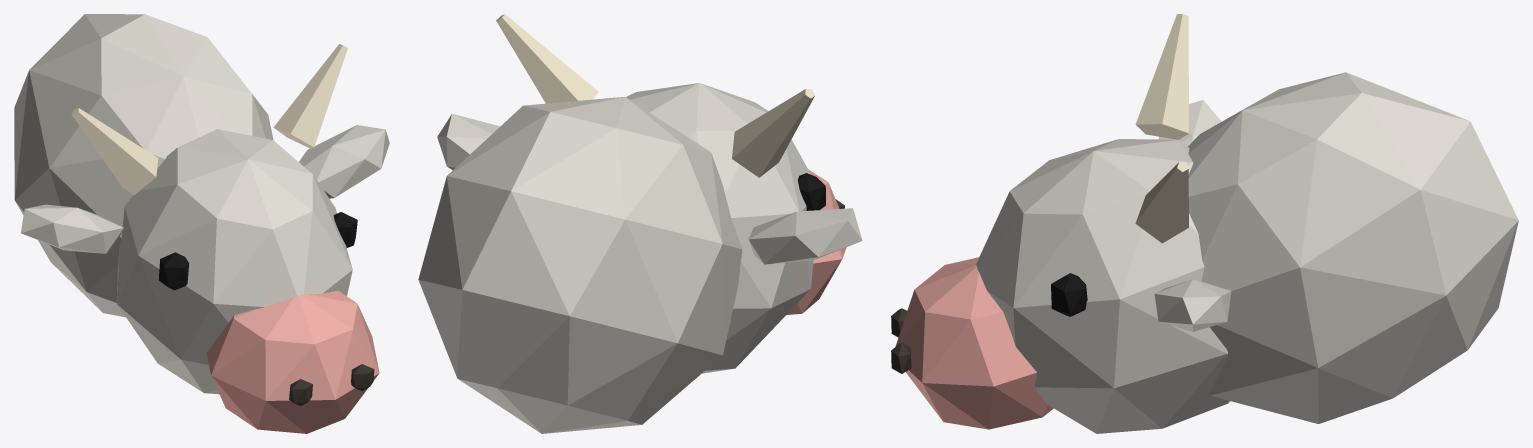
The model's file is cow_1_head.glb.
The picture shows the model from 3 angles, left to right: view 1: azimuth 30°, elevation 25°; view 2: azimuth 150°, elevation 25°; view 3: azimuth 270°, elevation 25°; orthographic projection. The views are drawn at different scales.
Visible parts, largest first — view 1: cow_1_head; view 2: cow_1_head; view 3: cow_1_head.
Boxes of the visible parts, x1,y1,x2,y2 form: cow_1_head: [14, 14, 389, 433]; cow_1_head: [418, 14, 862, 433]; cow_1_head: [891, 14, 1518, 433].
Size of the model in its own units: 0.4809 by 0.3613 by 0.6143.
